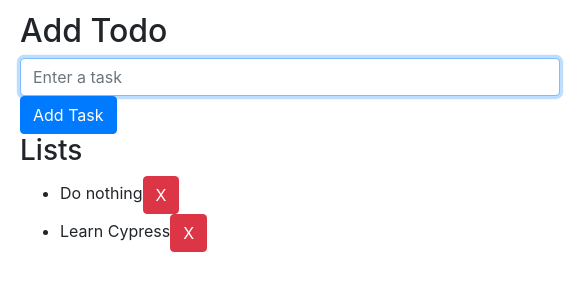
Test: Form › adds a new todo
Type "Learn about cypress" into the field with placeholder "Enter a task" at (290, 77), box [20,58,560,96]
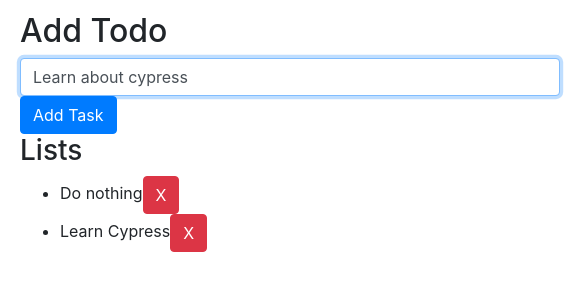
Press Enter in the field, box [20,58,560,96]
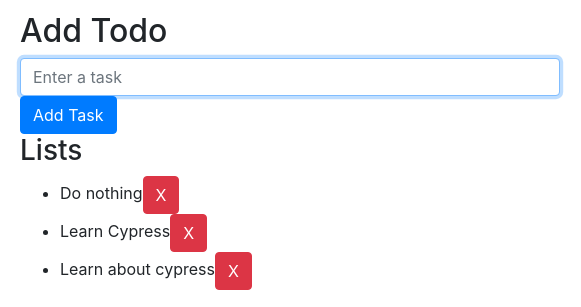
Now the number of list items is 3, box [60,176,180,214]; [60,214,207,252]; [60,252,252,290]
